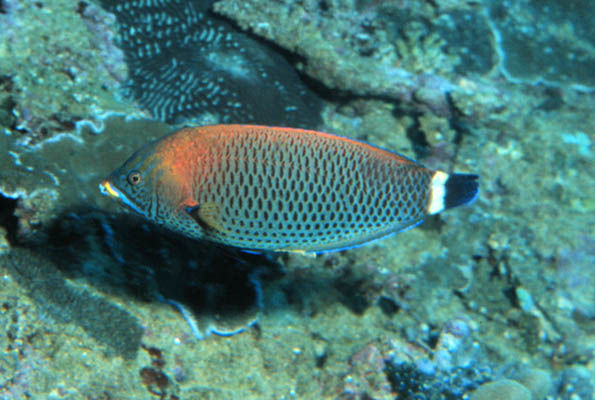fish: (99, 123, 481, 255)
